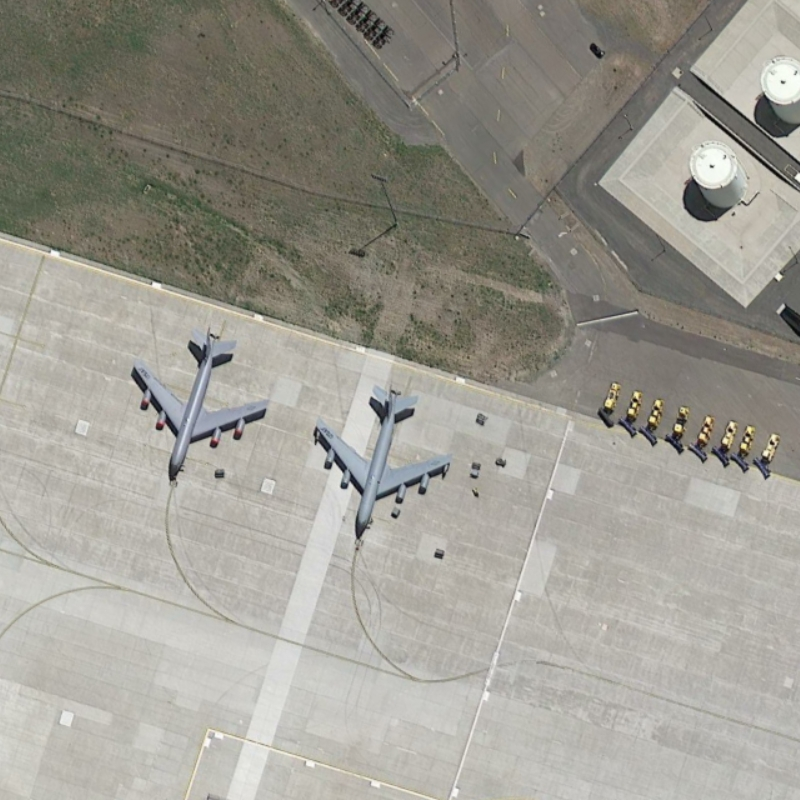A14: (125, 320, 273, 487), (307, 381, 454, 540)
